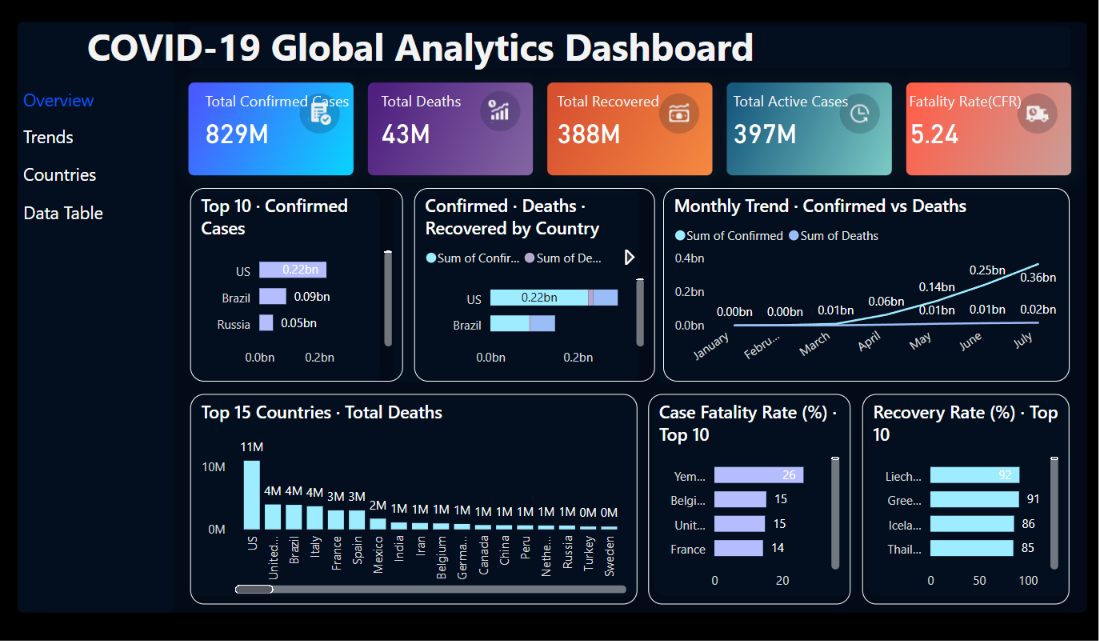

Layout of this report page (visuals, bound fields, positions):
{"tool":"powerbi","page":{"name":"Overview","canvas":[1920,1080],"ordinal":0},"visuals":[{"type":"cardVisual","fields":{"Data":["full_grouped.Total Confirmed Cases","full_grouped.Total Deaths","full_grouped.Total Recovered","full_grouped.Total Active Cases","full_grouped.Fatality Rate(CFR)"]},"box":[330,126,1540,163],"z":0},{"type":"clusteredBarChart","title":"Top 10 · Confirmed Cases","fields":{"Category":["full_grouped.Country/Region"],"Y":["full_grouped.Total Confirmed Cases"]},"box":[333.1,320.6,371.5,323.9],"z":1000},{"type":"barChart","title":"Confirmed · Deaths · Recovered by Country","fields":{"Category":["full_grouped.Country/Region"],"Y":["Sum(full_grouped.Confirmed)","Sum(full_grouped.Deaths)","Sum(full_grouped.Recovered)"]},"box":[723.8,320.6,420.4,323.9],"z":2000},{"type":"lineChart","title":"Monthly Trend · Confirmed vs Deaths","fields":{"Category":["full_grouped.Date.Variation.Date Hierarchy.Year","full_grouped.Date.Variation.Date Hierarchy.Month","full_grouped.Date.Variation.Date Hierarchy.Day"],"Y":["Sum(full_grouped.Confirmed)","Sum(full_grouped.Deaths)"]},"box":[1158.1,320.6,708.1,323.9],"z":3000},{"type":"clusteredColumnChart","title":"Top 15 Countries · Total Deaths","fields":{"Category":["full_grouped.Country/Region"],"Y":["full_grouped.Total Deaths"]},"box":[333.1,664.6,779.7,352.3],"z":4000},{"type":"clusteredBarChart","title":"Case Fatality Rate (%) · Top 10","fields":{"Category":["full_grouped.Country/Region"],"Y":["full_grouped.Fatality Rate(CFR)"]},"box":[1132,664.6,352.3,352.3],"z":5000},{"type":"clusteredBarChart","title":"Recovery Rate (%) · Top 10","fields":{"Category":["full_grouped.Country/Region"],"Y":["full_grouped.Recovery Rate"]},"box":[1505.2,664.6,361,352.3],"z":6000},{"type":"image","box":[50.3,35.4,66.6,70.7],"z":7000},{"type":"actionButton","box":[35,143,270,58],"z":8000},{"type":"actionButton","box":[35,206,270,58],"z":9000},{"type":"actionButton","box":[35,269,270,58],"z":10000},{"type":"actionButton","box":[35,332,270,58],"z":11000},{"type":"textbox","box":[340,33,1520,55],"z":12000}]}

Visuals, with their boxes on the page's 1920x1080 design canvas (x1, y1, x2, y2). These are canvas units, not pixel positions in the 1099x641 screenshot, which may show the page scaled, cropped or inside an application window:
cardVisual - full_grouped.Total Confirmed Cases x full_grouped.Total Deaths: <box>330,126,1870,289</box>
"Top 10 · Confirmed Cases" clusteredBarChart: <box>333,321,705,644</box>
"Confirmed · Deaths · Recovered by Country" barChart: <box>724,321,1144,644</box>
"Monthly Trend · Confirmed vs Deaths" lineChart: <box>1158,321,1866,644</box>
"Top 15 Countries · Total Deaths" clusteredColumnChart: <box>333,665,1113,1017</box>
"Case Fatality Rate (%) · Top 10" clusteredBarChart: <box>1132,665,1484,1017</box>
"Recovery Rate (%) · Top 10" clusteredBarChart: <box>1505,665,1866,1017</box>
image: <box>50,35,117,106</box>
actionButton: <box>35,143,305,201</box>
actionButton: <box>35,206,305,264</box>
actionButton: <box>35,269,305,327</box>
actionButton: <box>35,332,305,390</box>
textbox: <box>340,33,1860,88</box>
